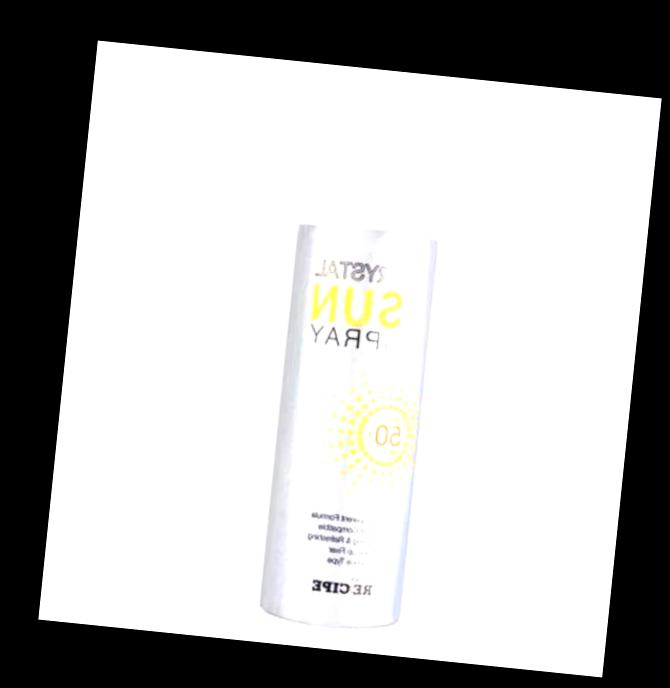cosmetic: (252, 89, 451, 632)
